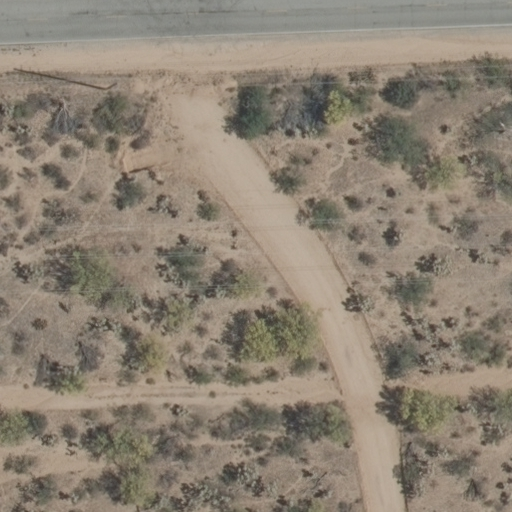DT: (100, 77, 126, 96)
